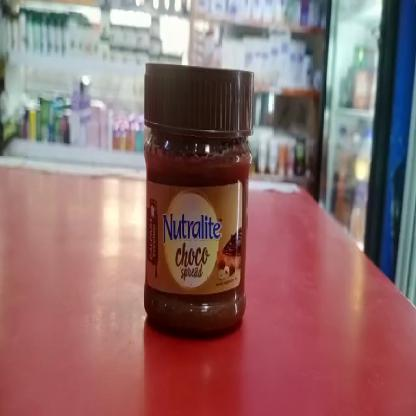Nutralite CHOCO SPREAD CALCIUM 275g: (145, 63, 251, 338)
